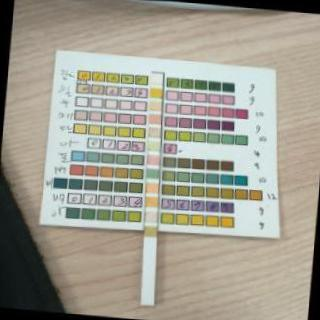mark: (144, 226, 156, 238), (148, 140, 160, 151), (146, 182, 157, 193), (150, 74, 162, 84), (149, 88, 161, 98), (148, 101, 160, 111), (148, 114, 160, 124), (148, 128, 160, 138), (146, 168, 158, 178), (146, 196, 158, 206), (145, 212, 157, 222), (148, 155, 158, 165)
